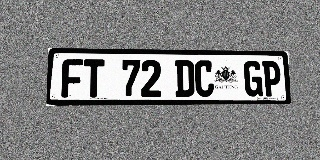2: (141, 60, 161, 97)
7: (120, 60, 141, 97)
C: (195, 60, 214, 97)
D: (175, 60, 194, 97)
F: (61, 59, 83, 98)
G: (244, 61, 263, 97)
P: (262, 61, 281, 96)
T: (83, 59, 104, 97)
